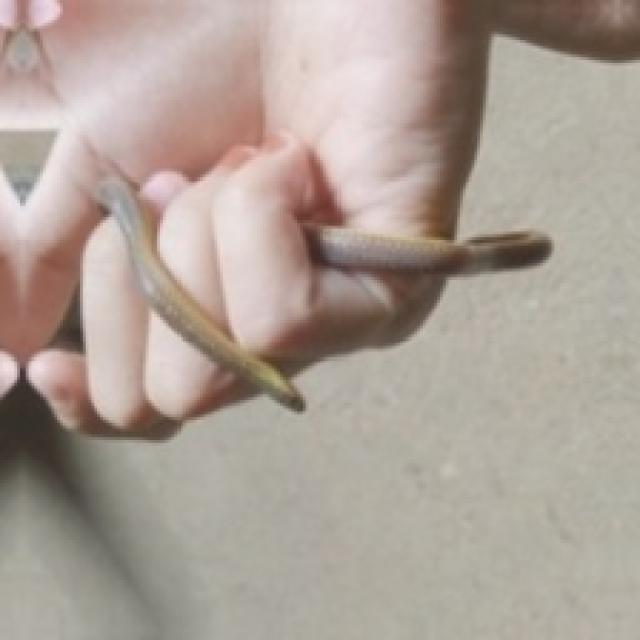gervais worm snake: (97, 174, 303, 409), (303, 226, 549, 274)
